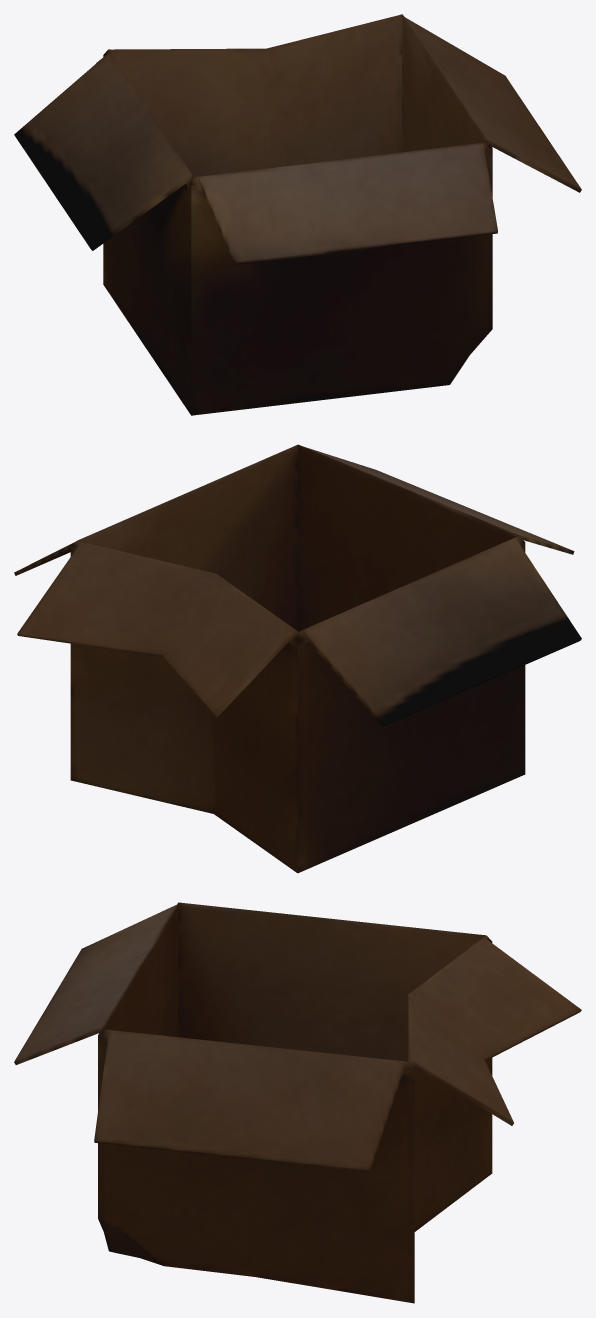
Rendered from G2_DM_cartons_3.gltf.
3 views of the same model, one above another, from view 1: azimuth 30°, elevation 25°; view 2: azimuth 150°, elevation 25°; view 3: azimuth 270°, elevation 25° (orthographic).
Visible parts, largest first — view 1: carton.006; view 2: carton.006; view 3: carton.006.
Part boxes in pixels (x1,y1,x2,y2): carton.006: (14,14,581,415); carton.006: (14,444,581,873); carton.006: (14,902,581,1303).
Size of the model in its own units: 0.4423 by 0.2049 by 0.4404.
1 material, 1 textured.
